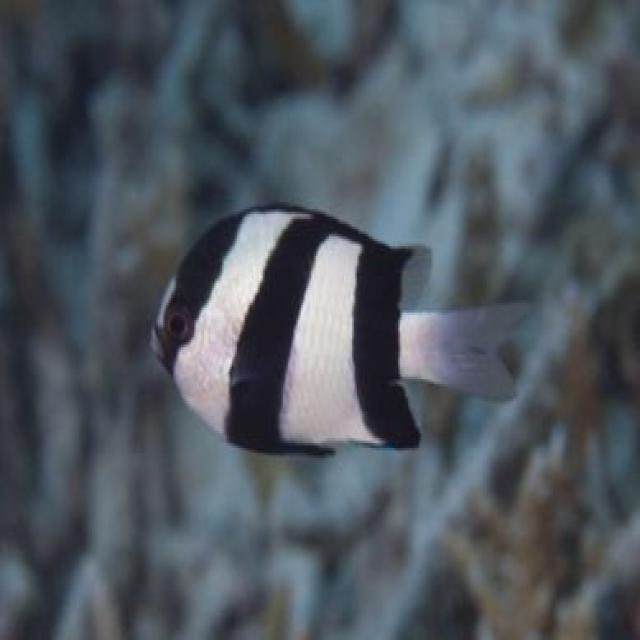Three_striped DasmselFish: (144, 196, 530, 460)
